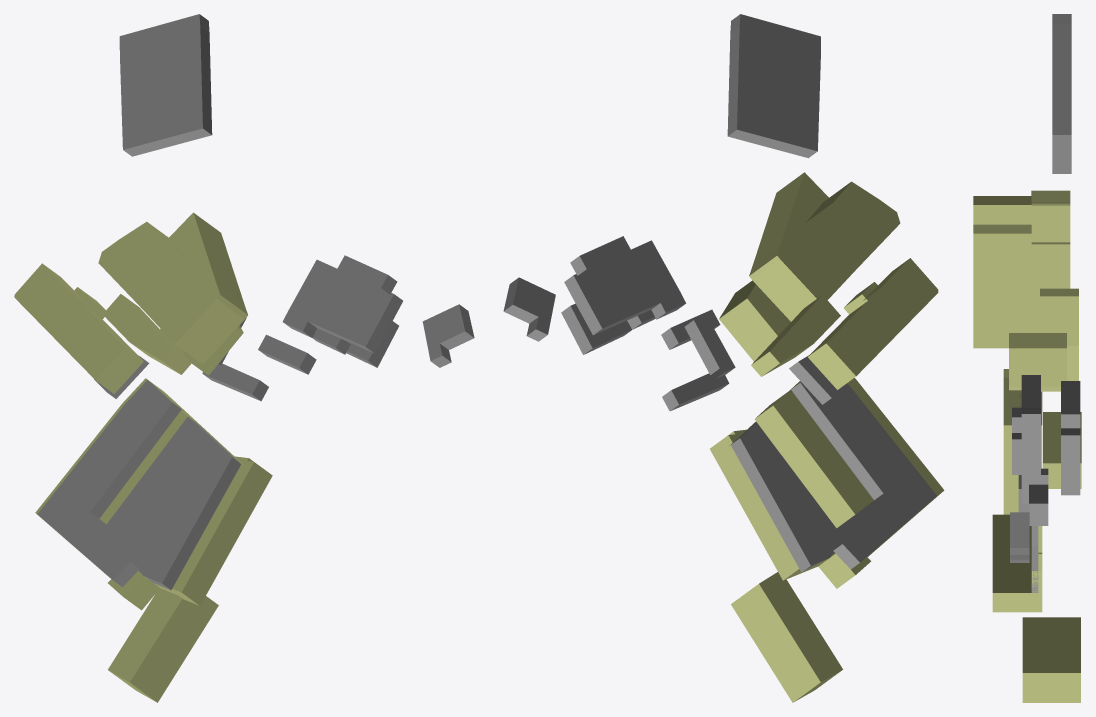
The picture shows the model from 3 angles, left to right: view 1: azimuth 30°, elevation 25°; view 2: azimuth 150°, elevation 25°; view 3: azimuth 270°, elevation 25°; orthographic projection. The views are drawn at different scales.
Parts seen in each view (by area): view 1: 0_1_2_0_1_3_0_0; view 2: 0_1_2_0_1_3_0_0; view 3: 0_1_2_0_1_3_0_0.
Part boxes in pixels (x1,y1,x2,y2): 0_1_2_0_1_3_0_0: (14,14,474,702); 0_1_2_0_1_3_0_0: (503,14,944,702); 0_1_2_0_1_3_0_0: (973,14,1081,702).
Bounding box in the file's own units: 80.38 × 117 × 16.76.
